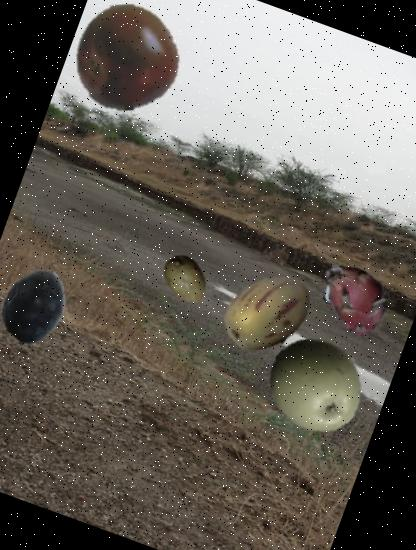Apple: (253, 322, 379, 448)
Blueberry: (0, 257, 83, 354)
Papaya: (152, 246, 220, 314)
Pepino: (209, 254, 326, 372)
Pitahaya: (301, 243, 407, 349)
Tomato: (58, 0, 195, 126)
